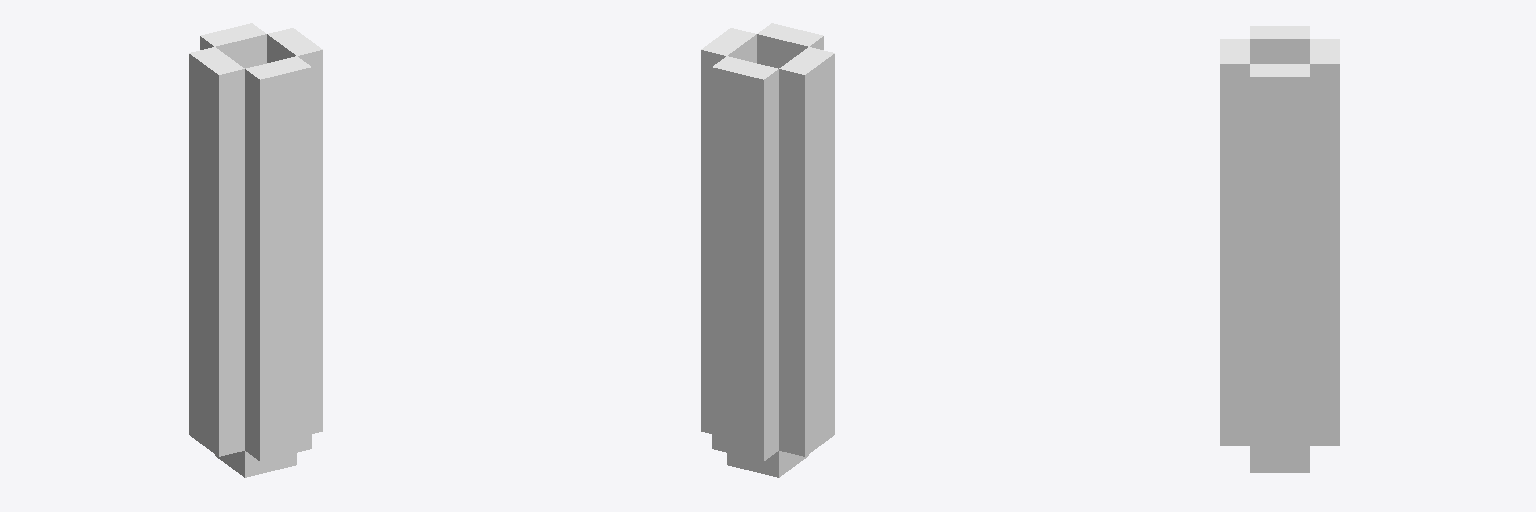
Rendered from tubeaessaie.obj.
3 renders of one model, left to right at view 1: azimuth 30°, elevation 25°; view 2: azimuth 150°, elevation 25°; view 3: azimuth 270°, elevation 25°, orthographic.
Parts seen in each view (by area): view 1: tubeaessaie; view 2: tubeaessaie; view 3: tubeaessaie.
Boxes of the visible parts, x1,y1,x2,y2 form: tubeaessaie: [189, 23, 322, 477]; tubeaessaie: [701, 23, 834, 477]; tubeaessaie: [1220, 26, 1339, 472].
Bounding box in the file's own units: 4 × 15 × 4.